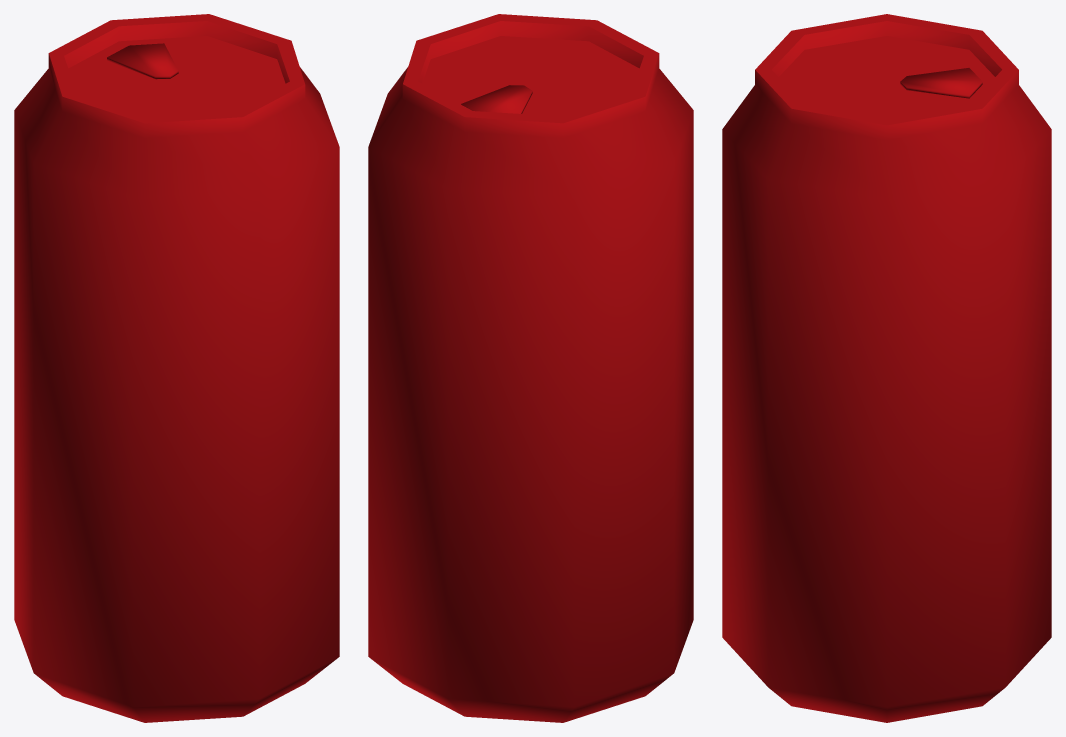
The model's file is p_Sodacan.fbx.
The picture shows the model from 3 angles, left to right: view 1: azimuth 30°, elevation 25°; view 2: azimuth 150°, elevation 25°; view 3: azimuth 270°, elevation 25°; orthographic projection.
Visible parts, largest first — view 1: p_Sodacan; view 2: p_Sodacan; view 3: p_Sodacan.
Part boxes in pixels (x1,y1,x2,y2): p_Sodacan: [14, 14, 339, 722]; p_Sodacan: [368, 14, 693, 722]; p_Sodacan: [722, 14, 1051, 722].
Bounding box in the file's own units: 6.25 × 12.5 × 6.25.
